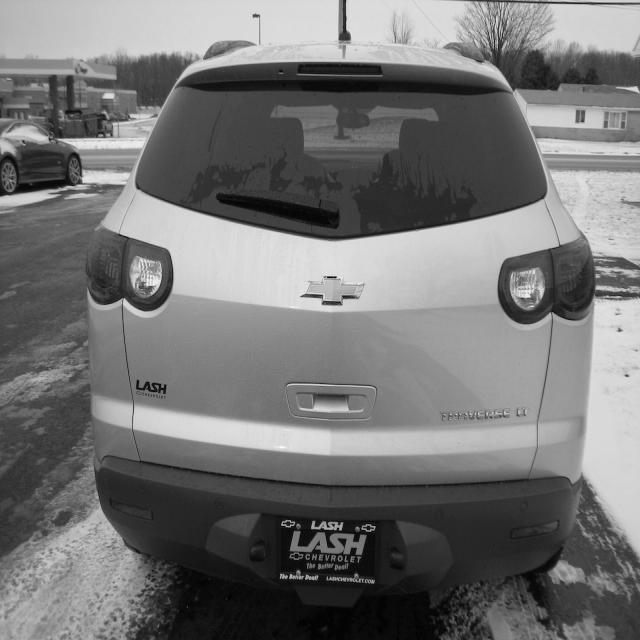car: (85, 39, 596, 608), (0, 117, 83, 195)
